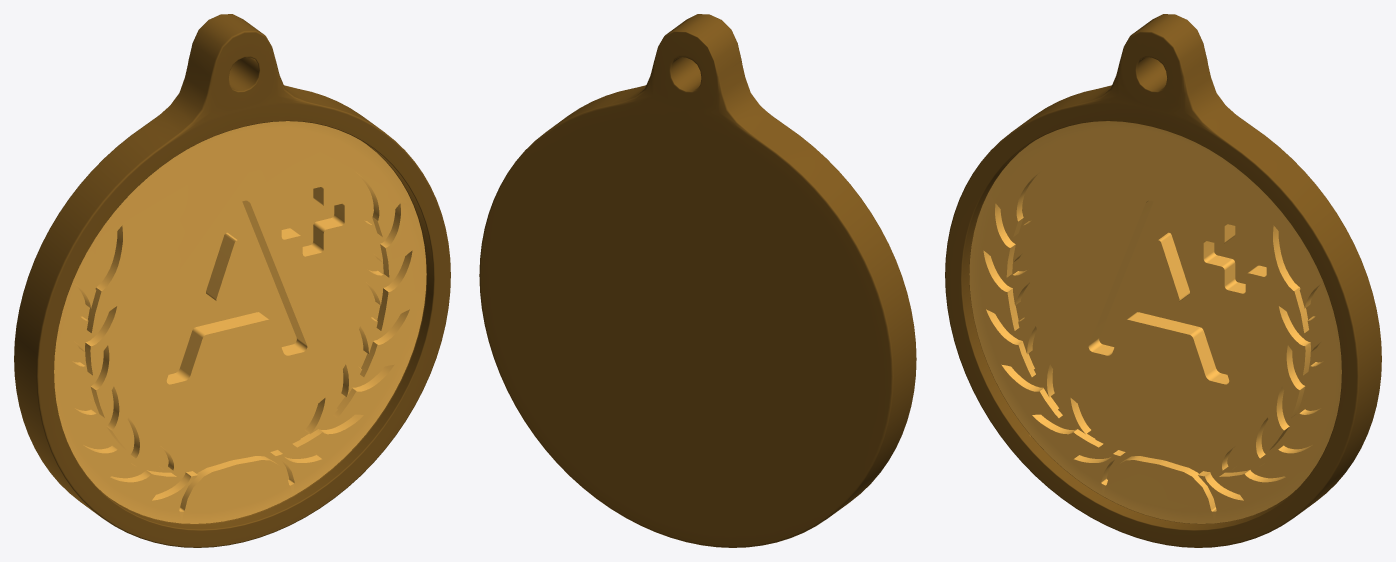
The model's file is medalAplus.glb.
3 views of the same model, side by side, from view 1: azimuth 30°, elevation 25°; view 2: azimuth 150°, elevation 25°; view 3: azimuth 330°, elevation 25° (orthographic).
Parts seen in each view (by area): view 1: medalAPlus; view 2: medalAPlus; view 3: medalAPlus.
Boxes of the visible parts, left/top/right/bottom form: medalAPlus: left=14, top=14, right=450, bottom=547; medalAPlus: left=479, top=14, right=916, bottom=547; medalAPlus: left=945, top=14, right=1381, bottom=547.
Bounding box in the file's own units: 19.72 × 23.25 × 2.
Materials: 1 (1 with a texture image).
